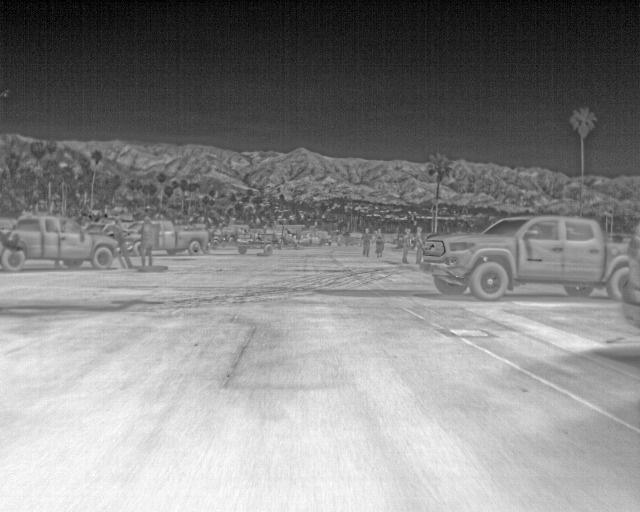bicycle: (418, 212, 630, 298), (1, 213, 119, 272), (150, 220, 210, 256)
empty: (137, 216, 158, 269), (398, 225, 414, 261), (371, 226, 385, 258), (361, 227, 373, 259)
